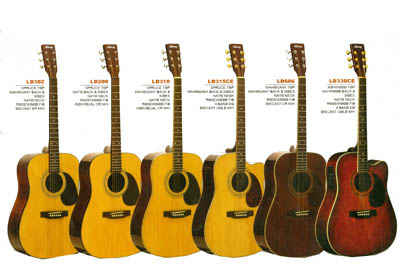guitar: (317, 44, 397, 256), (129, 43, 204, 258), (8, 43, 82, 259), (192, 44, 266, 258), (254, 42, 327, 258), (70, 45, 143, 258)
